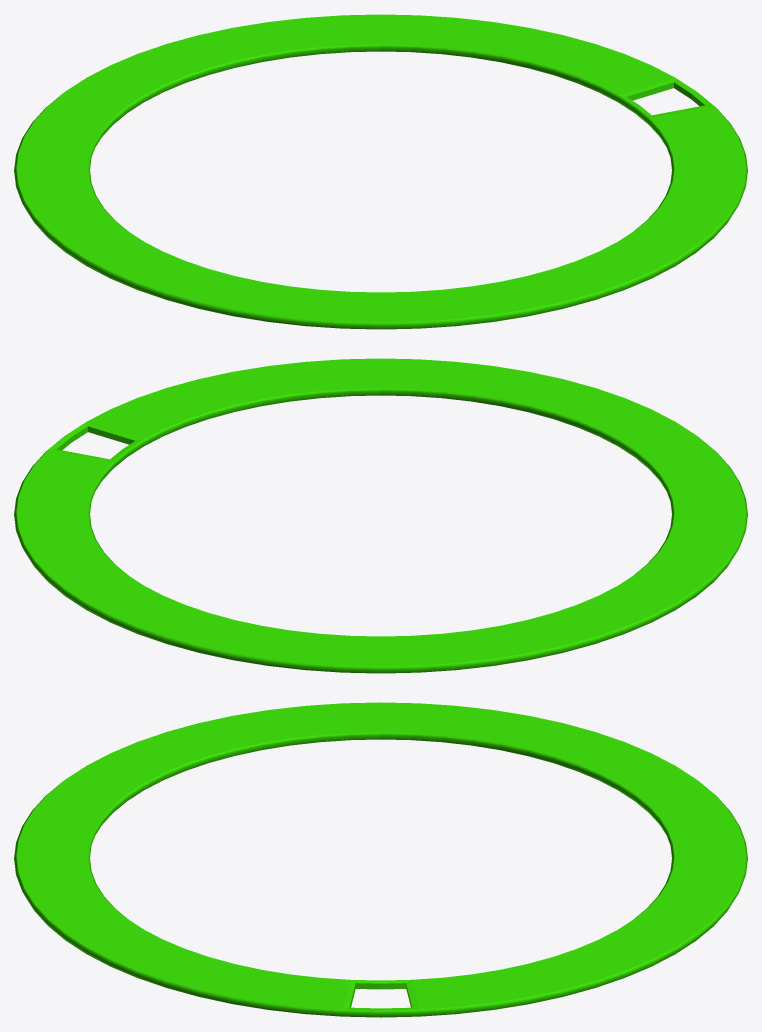
File: Code_Cylinder_Hole_02.fbx
3 renders of one model, top to bottom at view 1: azimuth 30°, elevation 25°; view 2: azimuth 150°, elevation 25°; view 3: azimuth 270°, elevation 25°, orthographic.
Visible parts, largest first — view 1: Code_Cylinder_Hole_02; view 2: Code_Cylinder_Hole_02; view 3: Code_Cylinder_Hole_02.
Part boxes in pixels (left/top/right/bottom): Code_Cylinder_Hole_02: left=14, top=14, right=747, bottom=329; Code_Cylinder_Hole_02: left=14, top=358, right=747, bottom=673; Code_Cylinder_Hole_02: left=14, top=702, right=747, bottom=1017.
Size of the model in its own units: 160 by 1.69 by 160.
